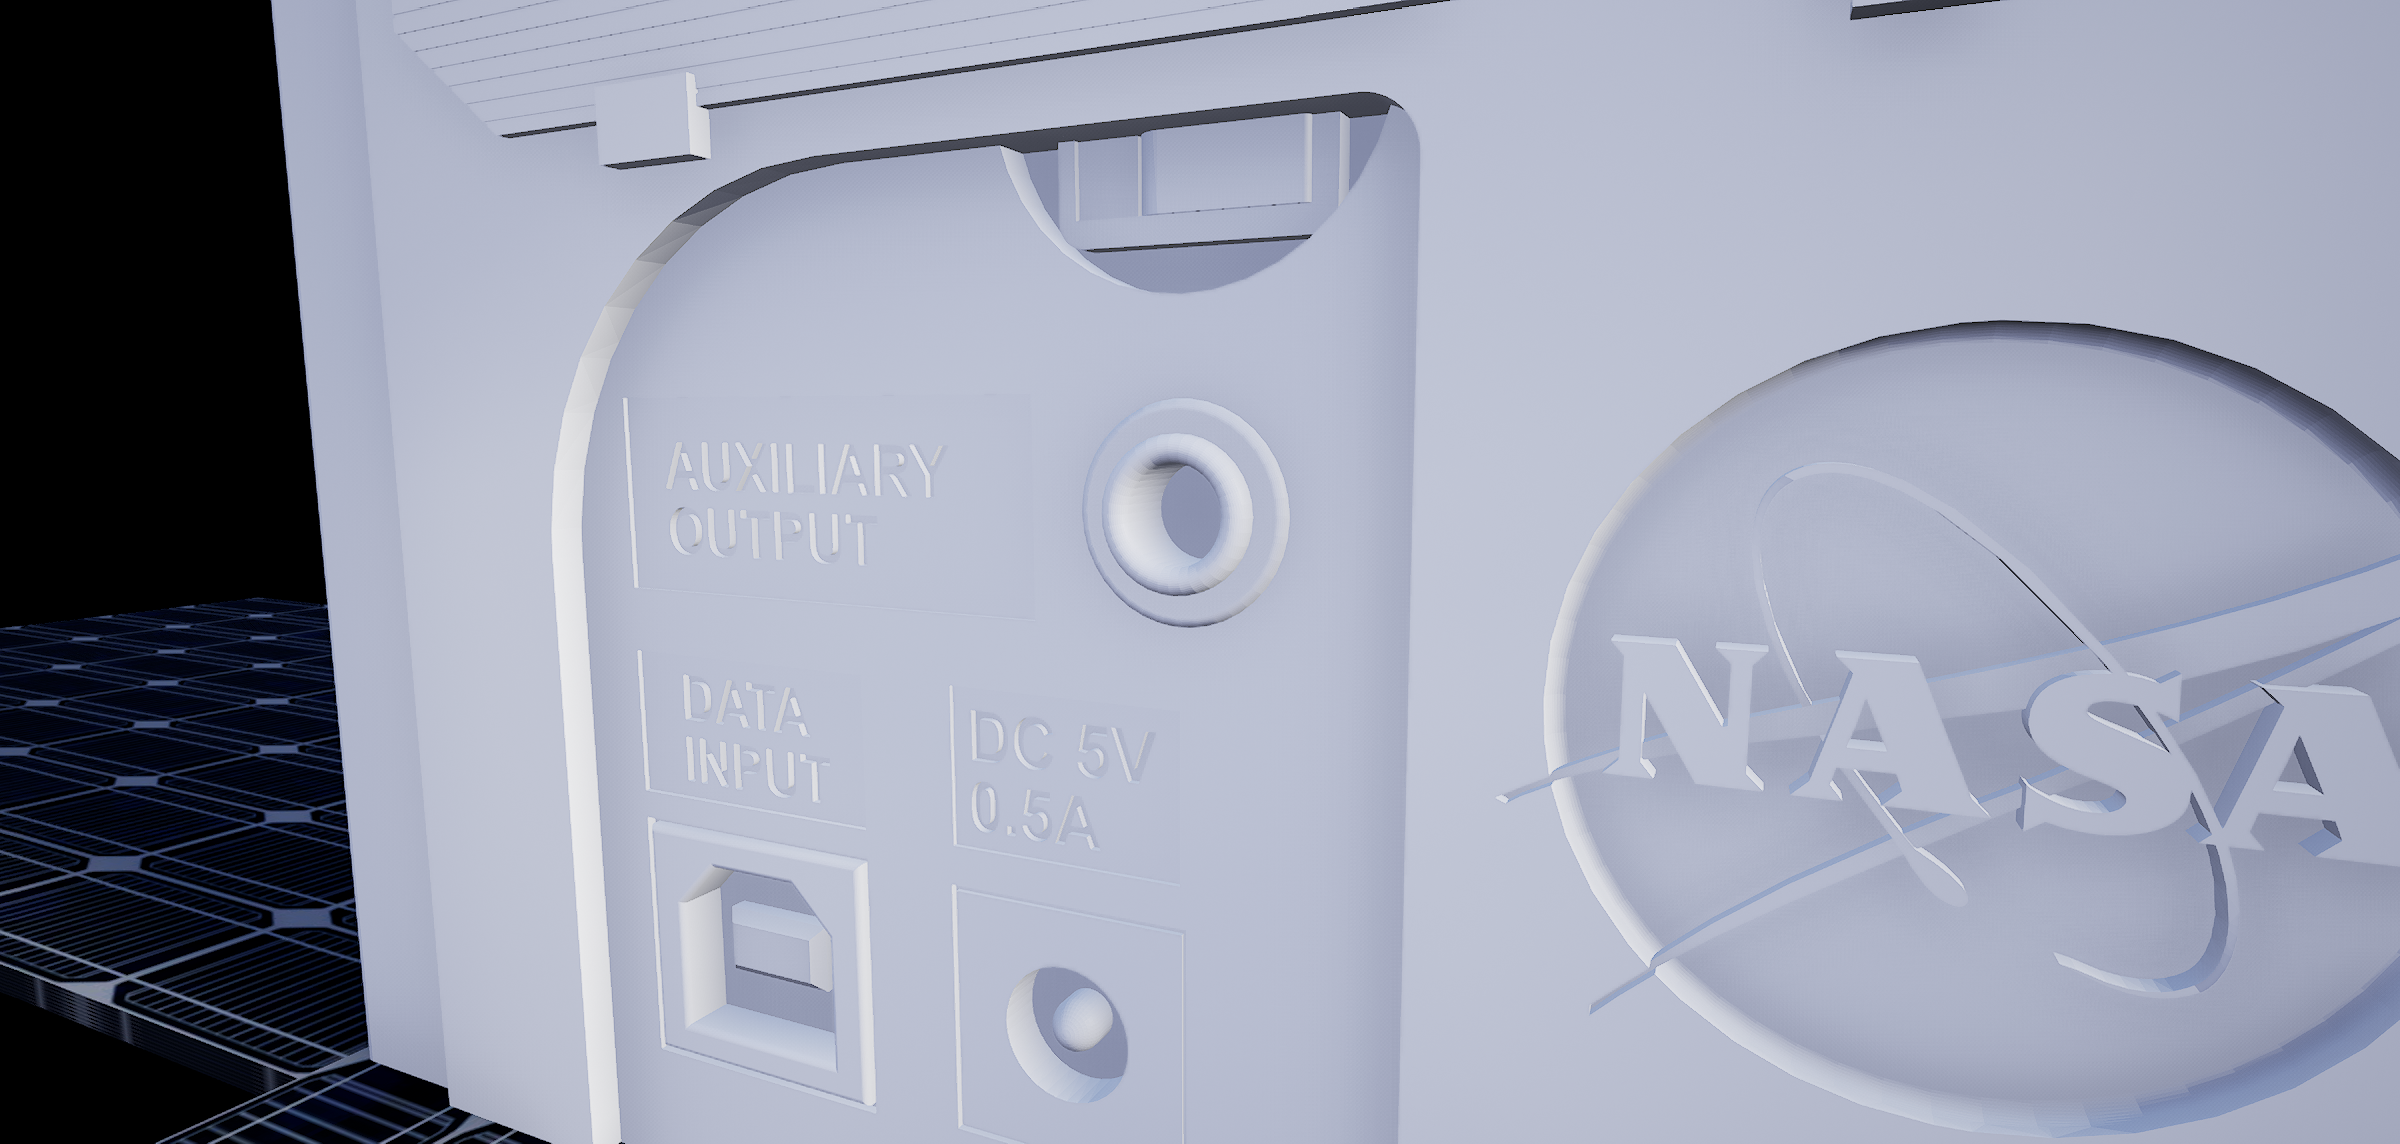aux: (1081, 387, 1309, 639)
dc: (992, 962, 1149, 1119)
usb: (677, 848, 849, 1075)
